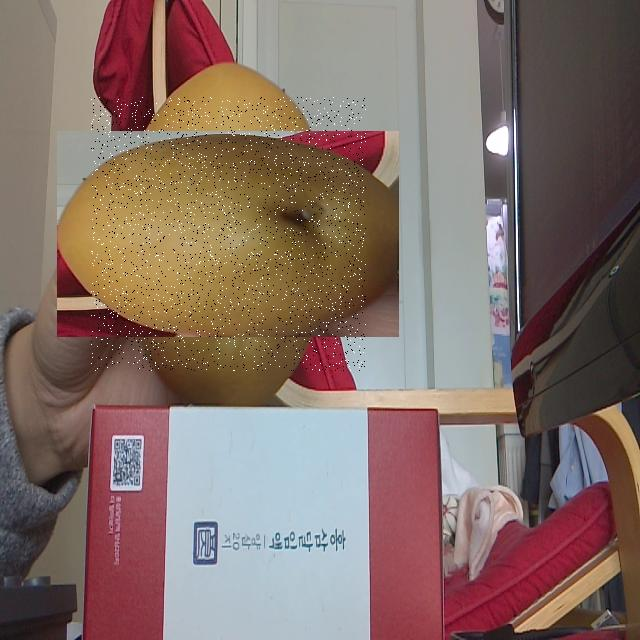pear: (91, 97, 366, 371)
